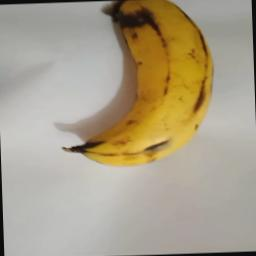Banana Unripe: (61, 0, 218, 171)
